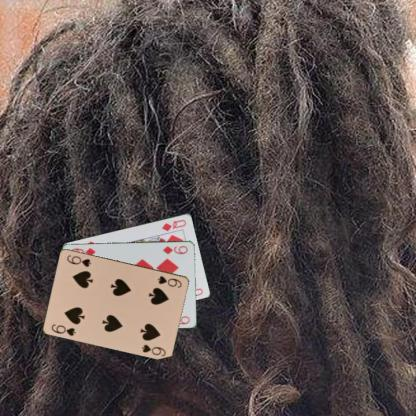6s: (155, 273, 183, 289), (49, 321, 77, 337)
9d: (161, 244, 189, 256)
Qd: (160, 217, 187, 232)
